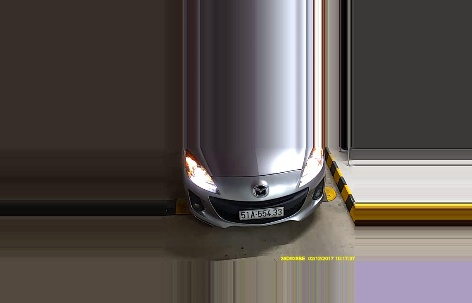plate: (236, 206, 288, 222)
